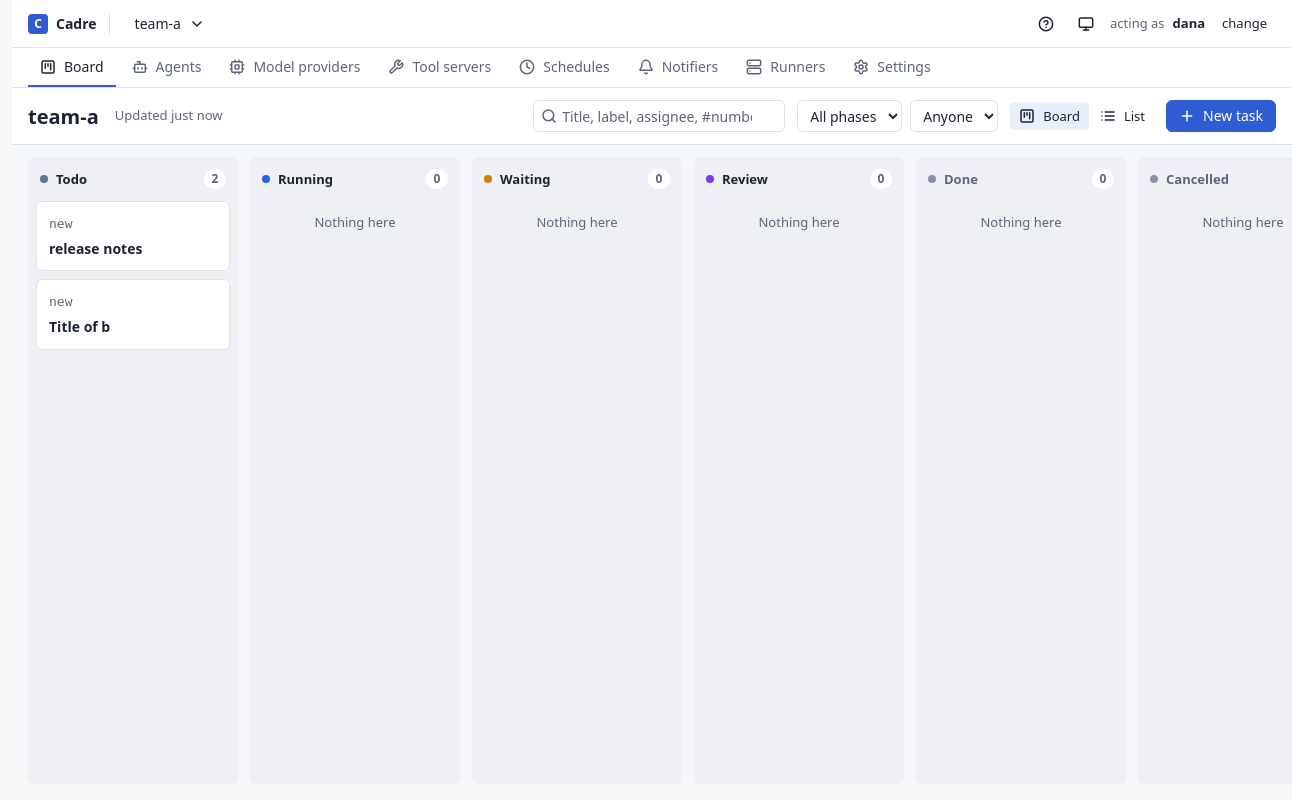
it: Board › keeps every key typed before the URL has caught up
The image size is (1292, 800).
Expected: the link "Title of b" is shown, [49, 317, 110, 336]
Type "r" into the search field named "Search the loaded page".
click(659, 116); type("r")  # box [533, 100, 785, 132]
Replace the text in the search field named "Search the loaded page" with "re" at [659, 116], box [533, 100, 785, 132]
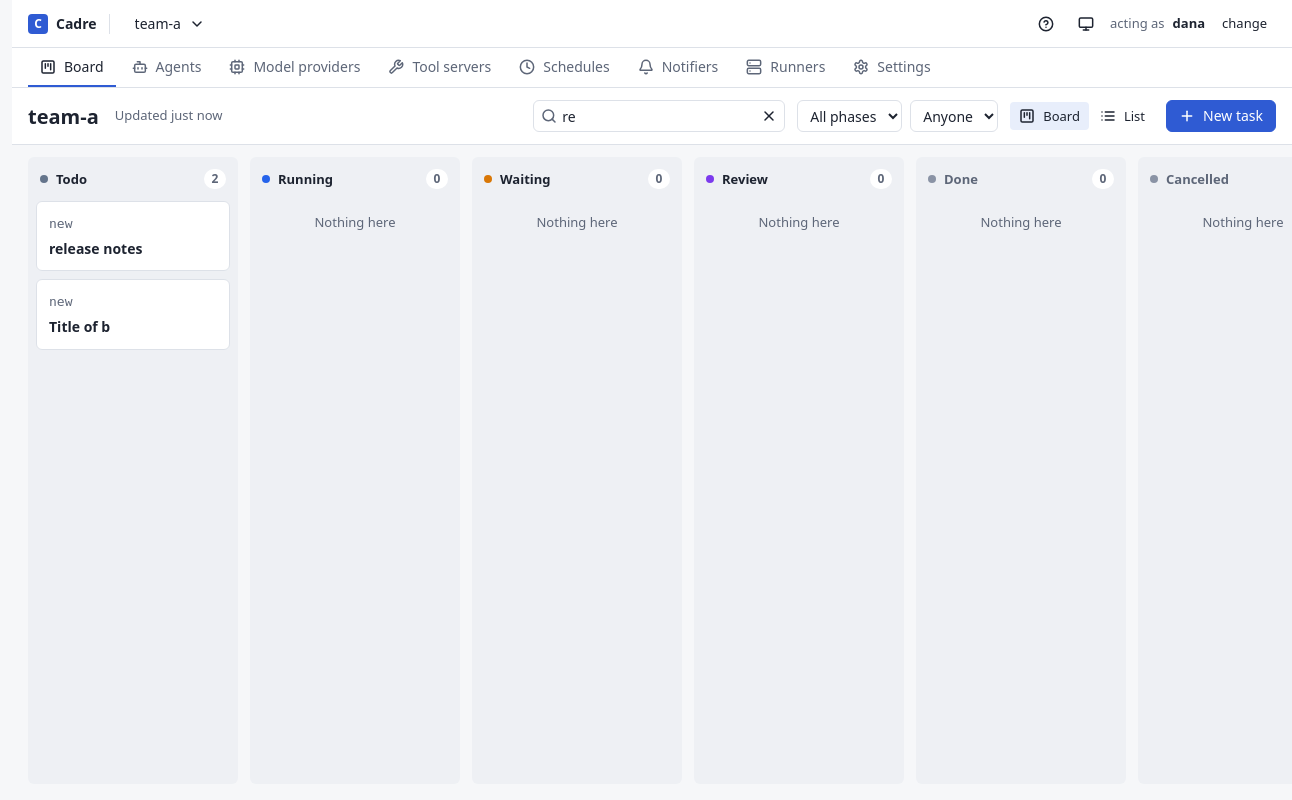
Replace the text in the search field named "Search the loaded page" with "rel" at [659, 116], box [533, 100, 785, 132]
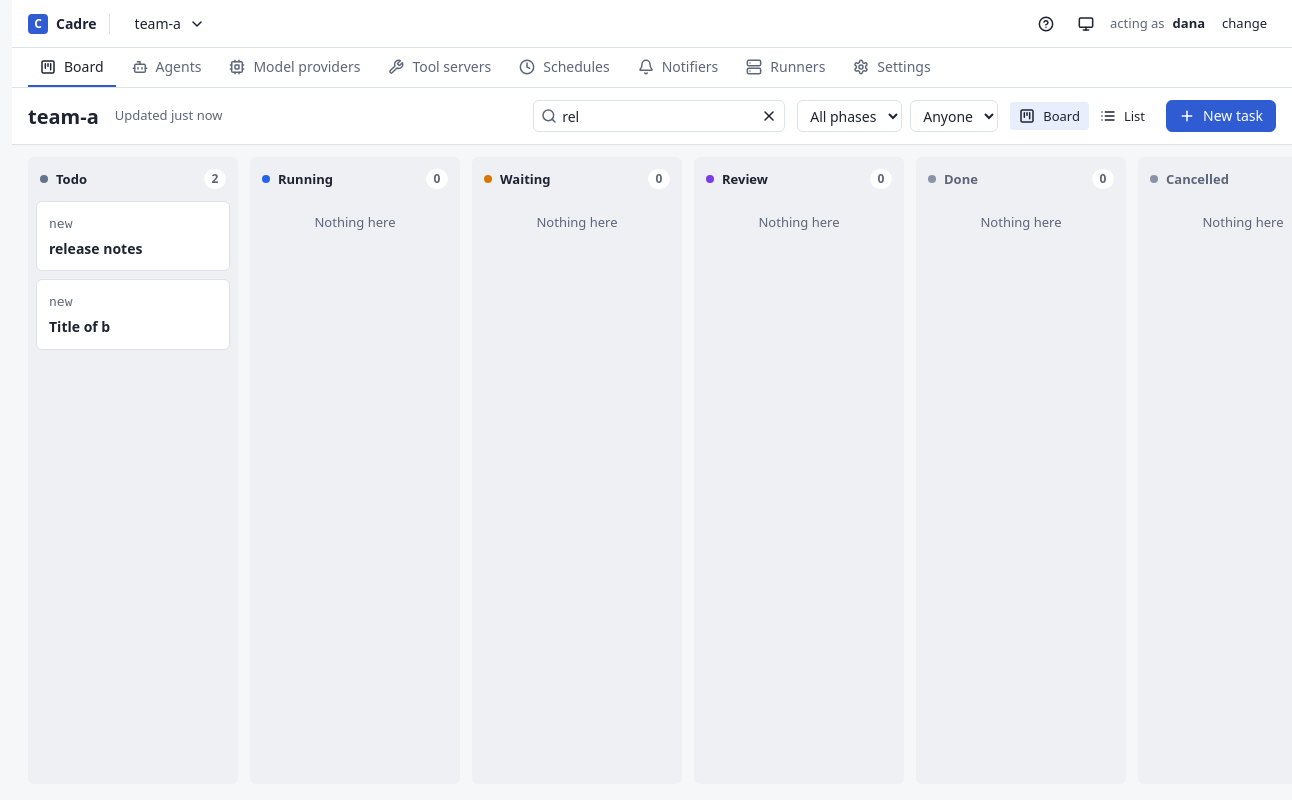
Replace the text in the search field named "Search the loaded page" with "rele" at [659, 116], box [533, 100, 785, 132]
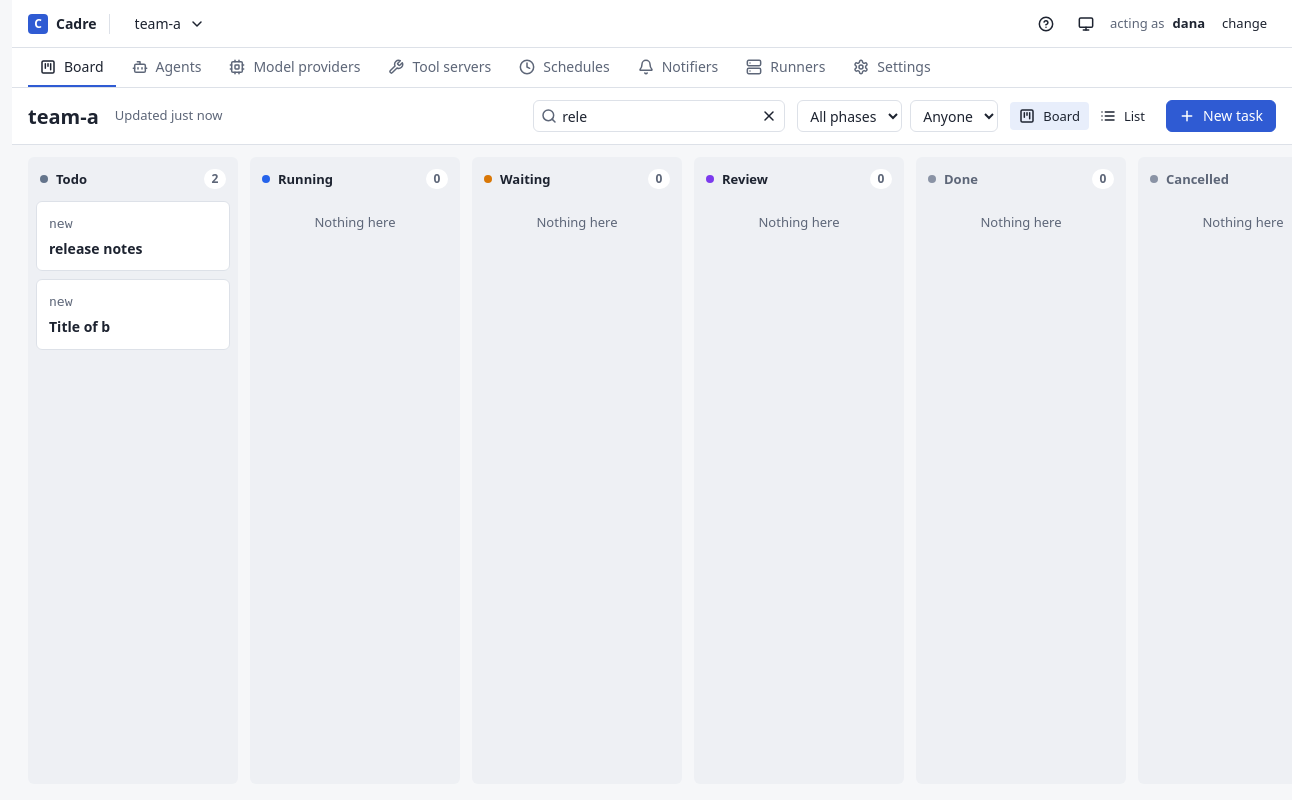
Replace the text in the search field named "Search the loaded page" with "relea" at [659, 116], box [533, 100, 785, 132]
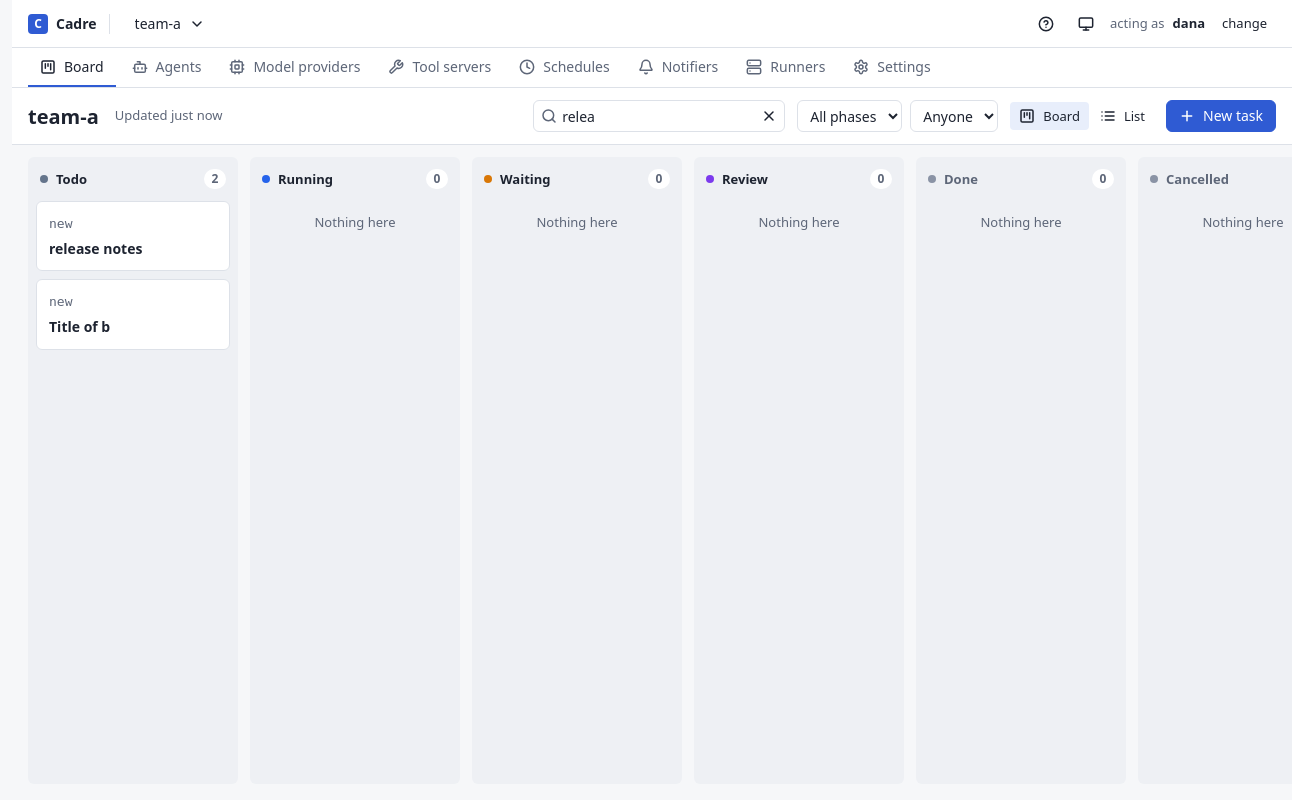
Replace the text in the search field named "Search the loaded page" with "releas" at [659, 116], box [533, 100, 785, 132]
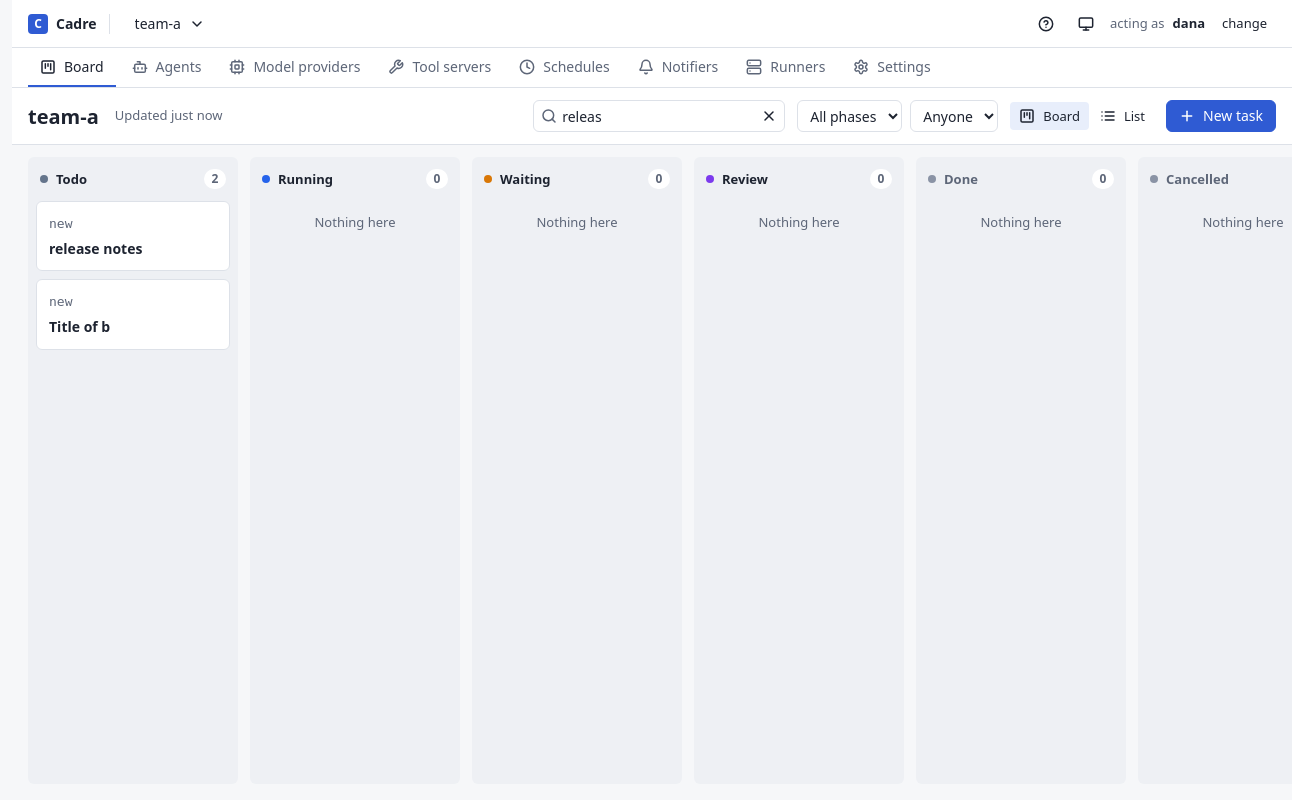
Replace the text in the search field named "Search the loaded page" with "release" at [659, 116], box [533, 100, 785, 132]
(page scrolled)
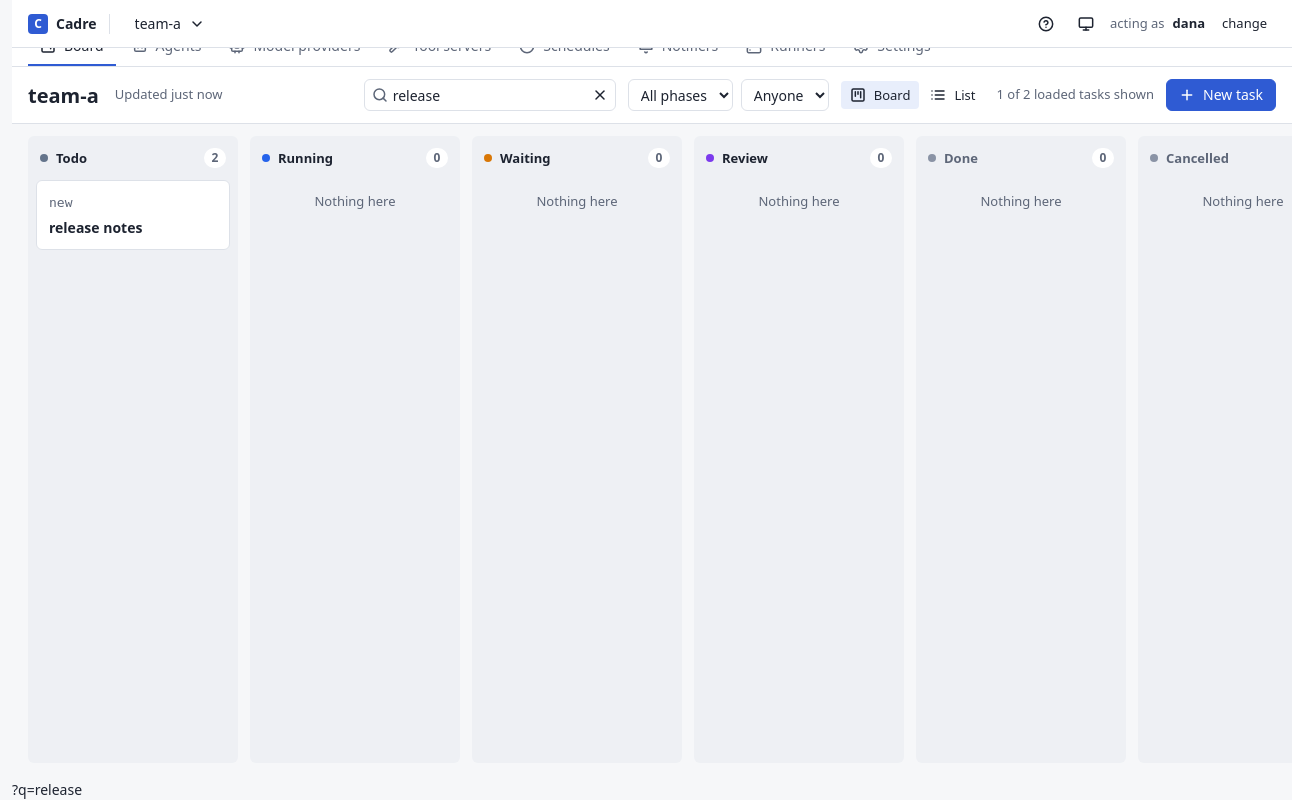
Expected: the text with test id "query" reads "?q=release", [12, 780, 82, 799]
